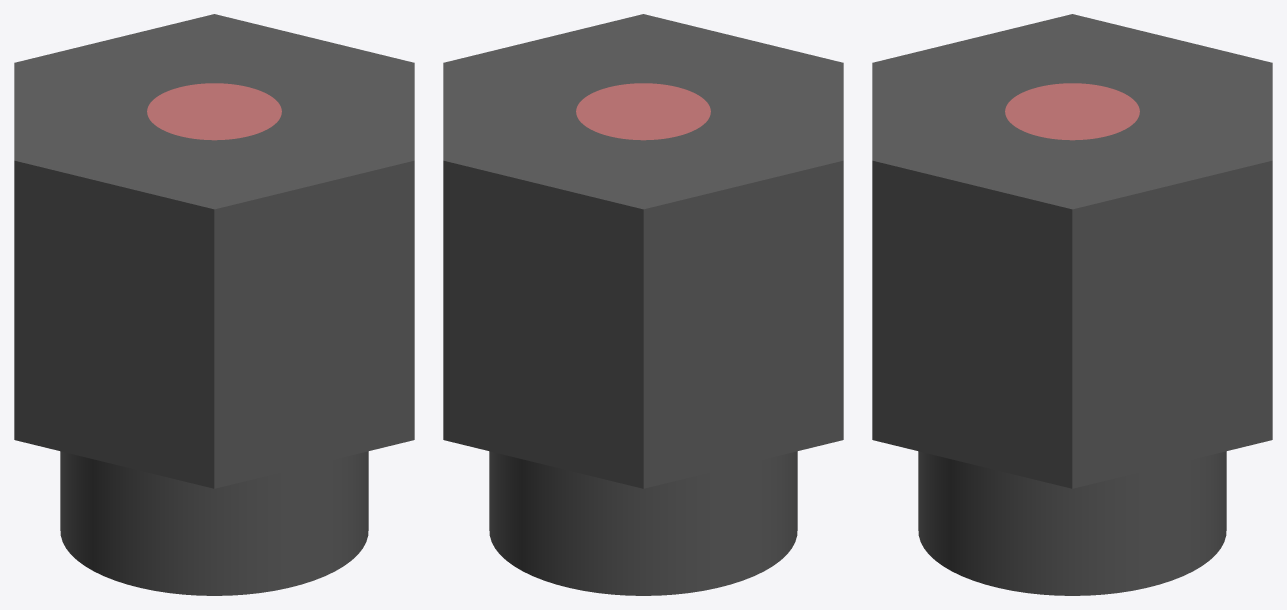
Rendered from step_03.glb.
3 views of the same model, side by side, from view 1: azimuth 30°, elevation 25°; view 2: azimuth 150°, elevation 25°; view 3: azimuth 270°, elevation 25° (orthographic).
Visible parts, largest first — view 1: part__cable gland M16, removed__cable gland M16; view 2: part__cable gland M16, removed__cable gland M16; view 3: part__cable gland M16, removed__cable gland M16.
Boxes of the visible parts, bbox=[...] form: part__cable gland M16: bbox=[14, 14, 414, 595]; removed__cable gland M16: bbox=[147, 83, 281, 140]; part__cable gland M16: bbox=[443, 14, 843, 595]; removed__cable gland M16: bbox=[576, 83, 710, 140]; part__cable gland M16: bbox=[872, 14, 1272, 595]; removed__cable gland M16: bbox=[1005, 83, 1139, 140].
Size of the model in its own units: 24 by 24 by 20.78.
